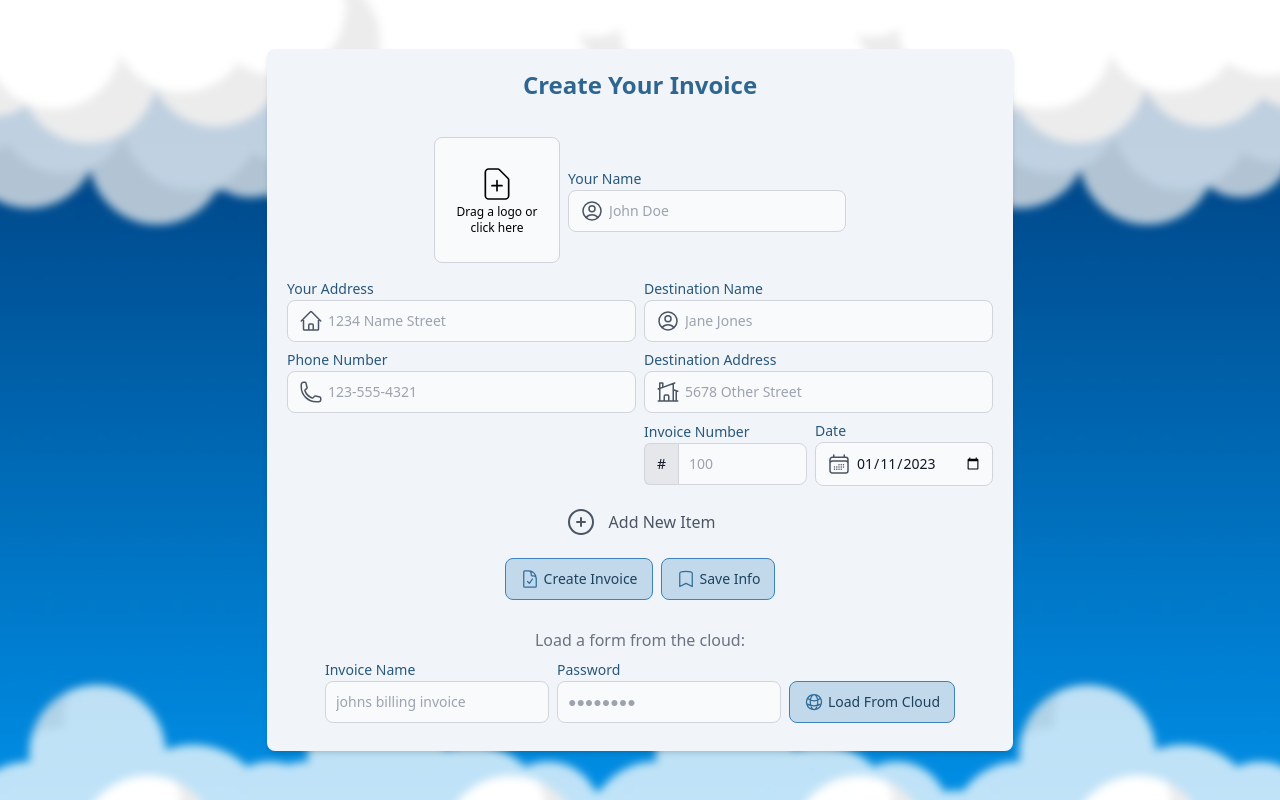
Test: Inputs › doesnt allow submission with no item name or price
The image size is (1280, 800).
Type "Bob Dole" into the field labelled "Your Name". click: (707, 211)
box: x1=568 y1=190 x2=846 y2=232
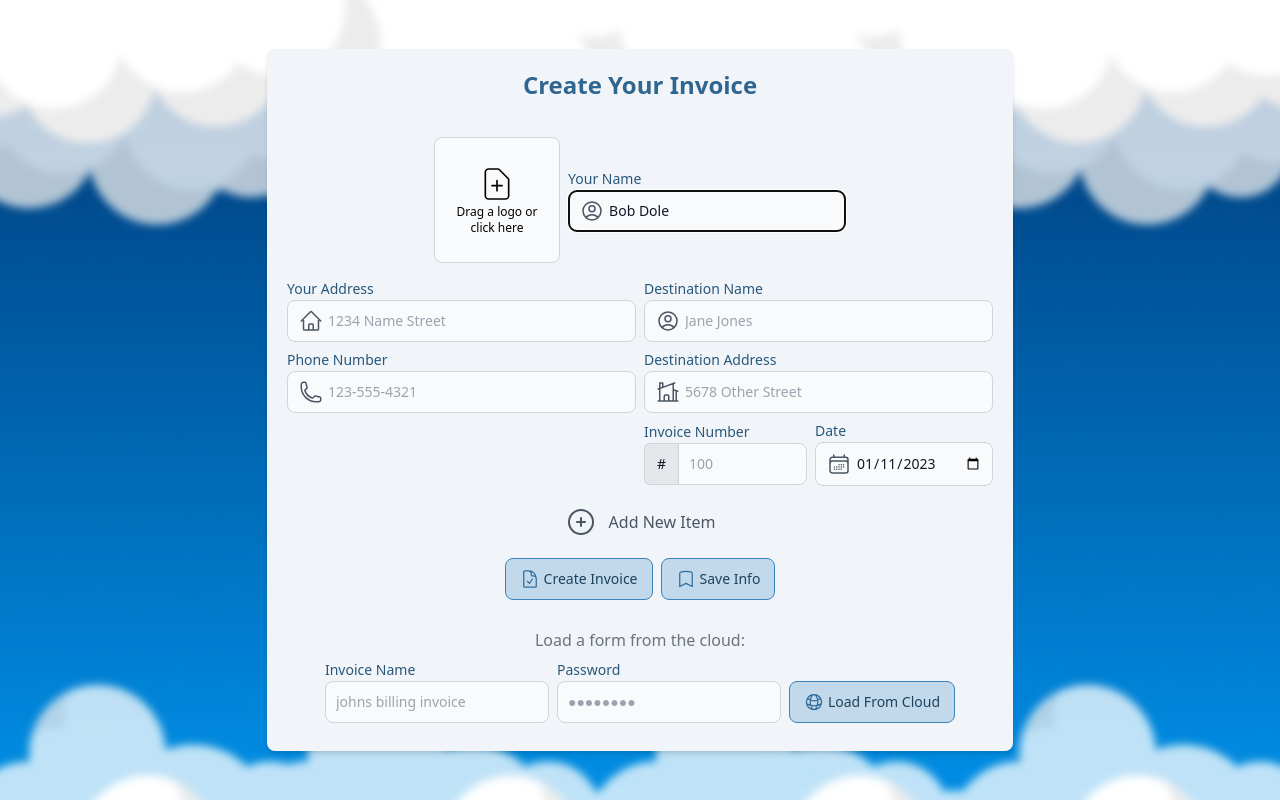
Click the text "Add New Item". click: (663, 522)
box: x1=609 y1=510 x2=716 y2=534
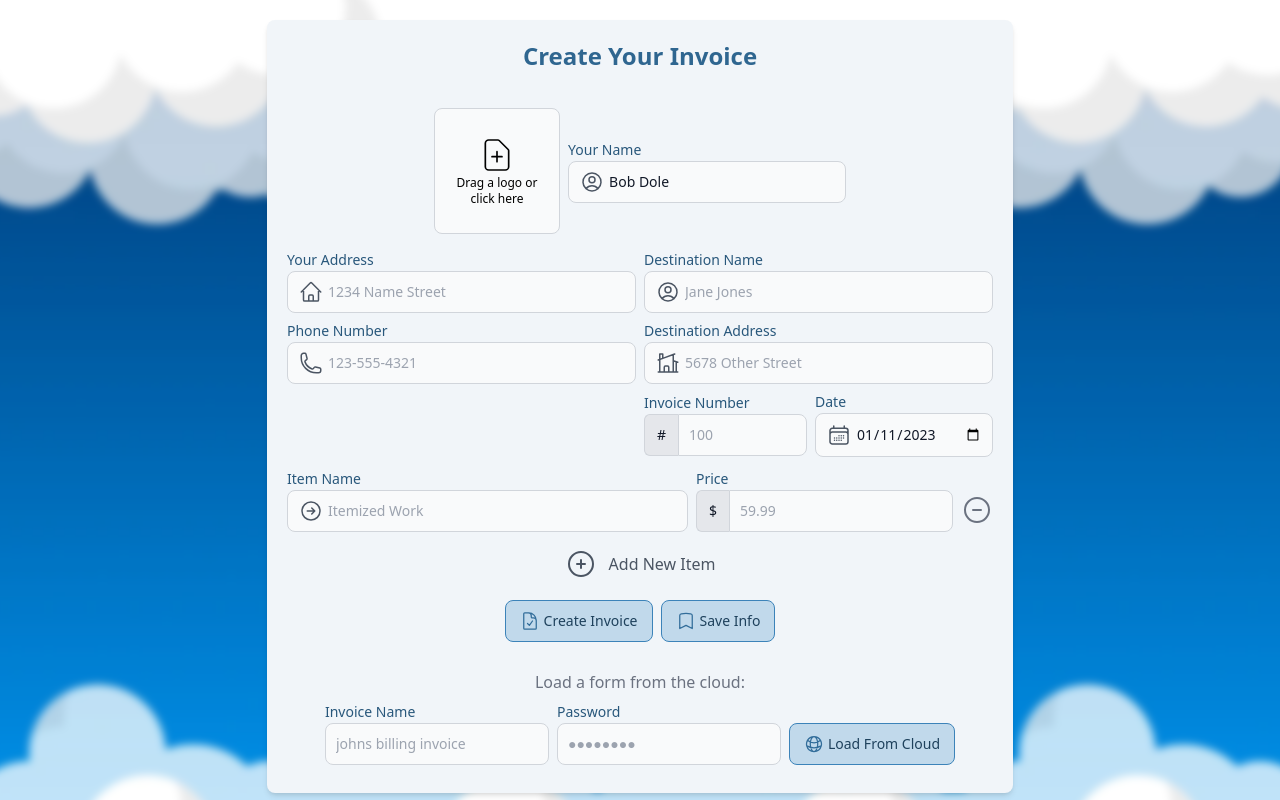
Click the text "Create Invoice". click: (591, 621)
box: x1=544 y1=611 x2=638 y2=631
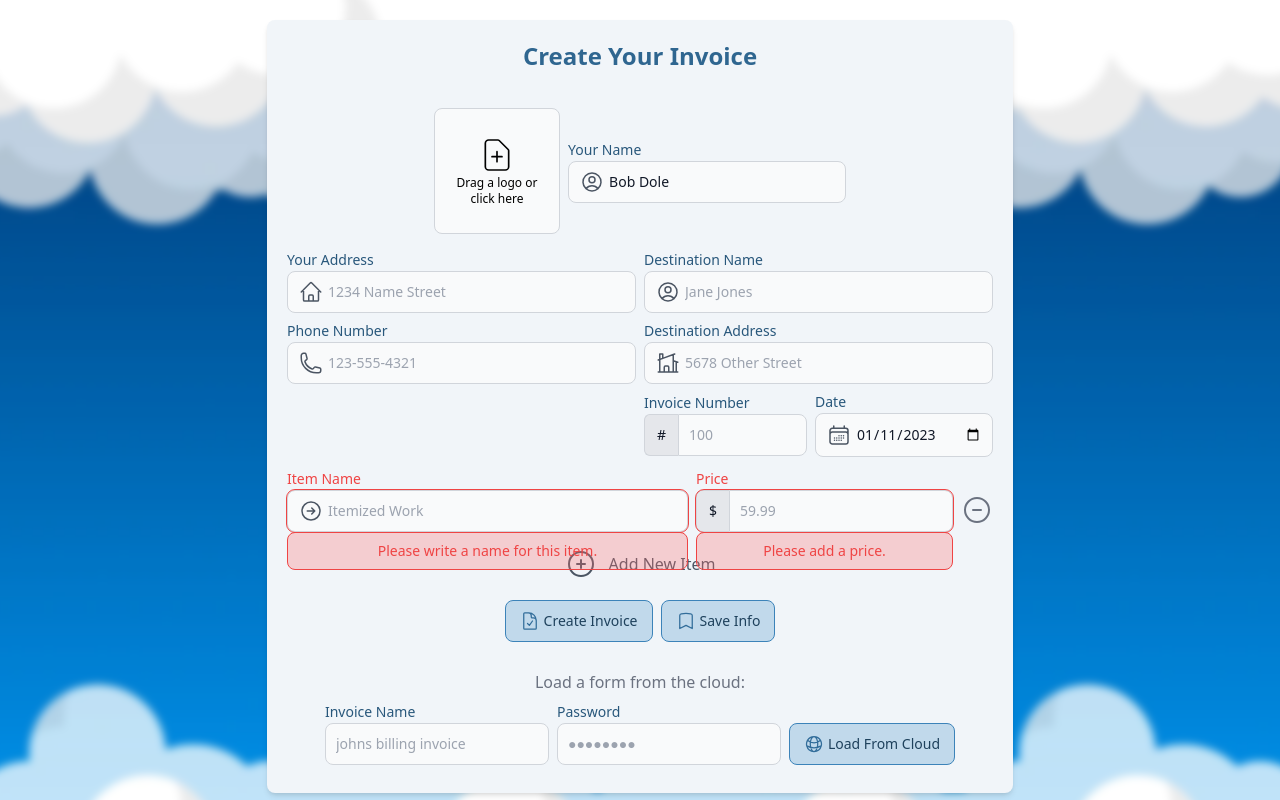
expect the text "Please write a name for this item." is shown: met, box x1=378 y1=541 x2=597 y2=561
expect the text "Please add a price." is shown: met, box x1=763 y1=541 x2=886 y2=561
